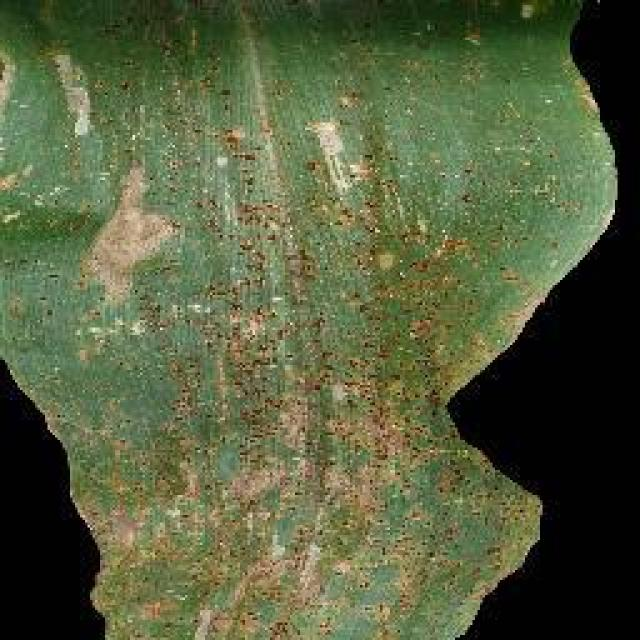Corn Common Rust: (62, 134, 555, 578)
